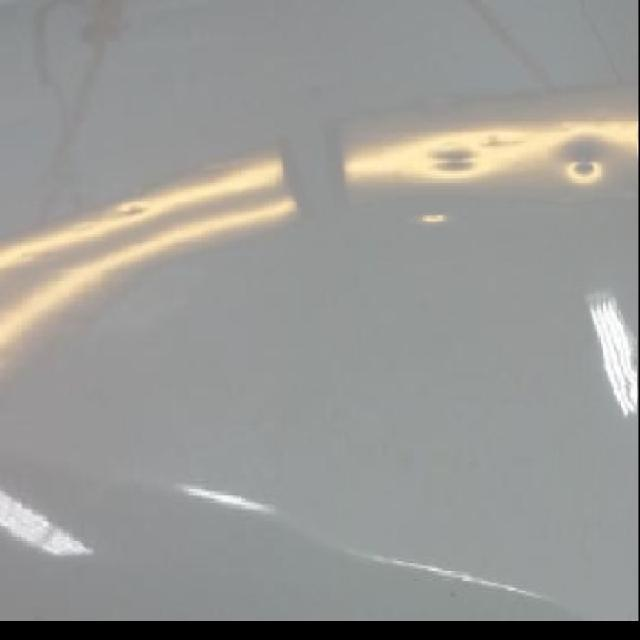dent: (561, 144, 609, 183), (429, 144, 483, 177), (483, 133, 526, 149), (418, 209, 452, 226), (121, 203, 146, 217)
